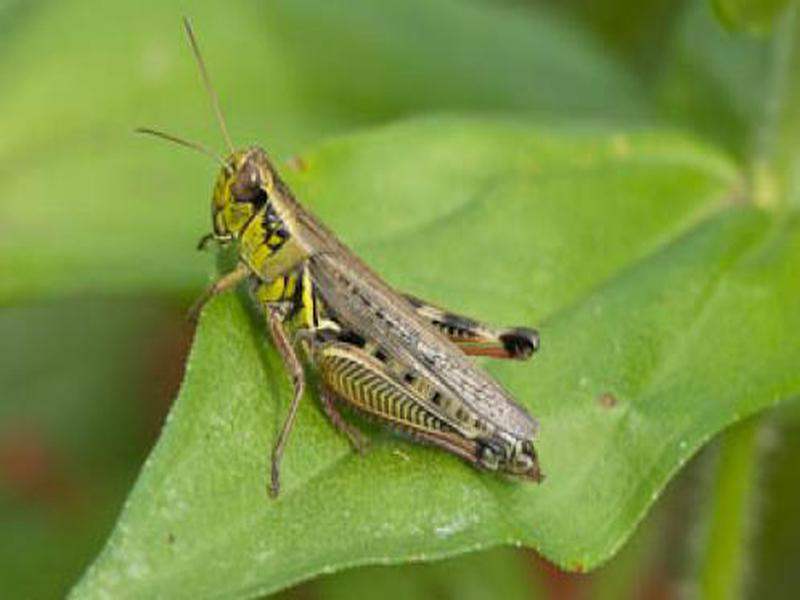Grasshopper: (142, 134, 548, 507)
